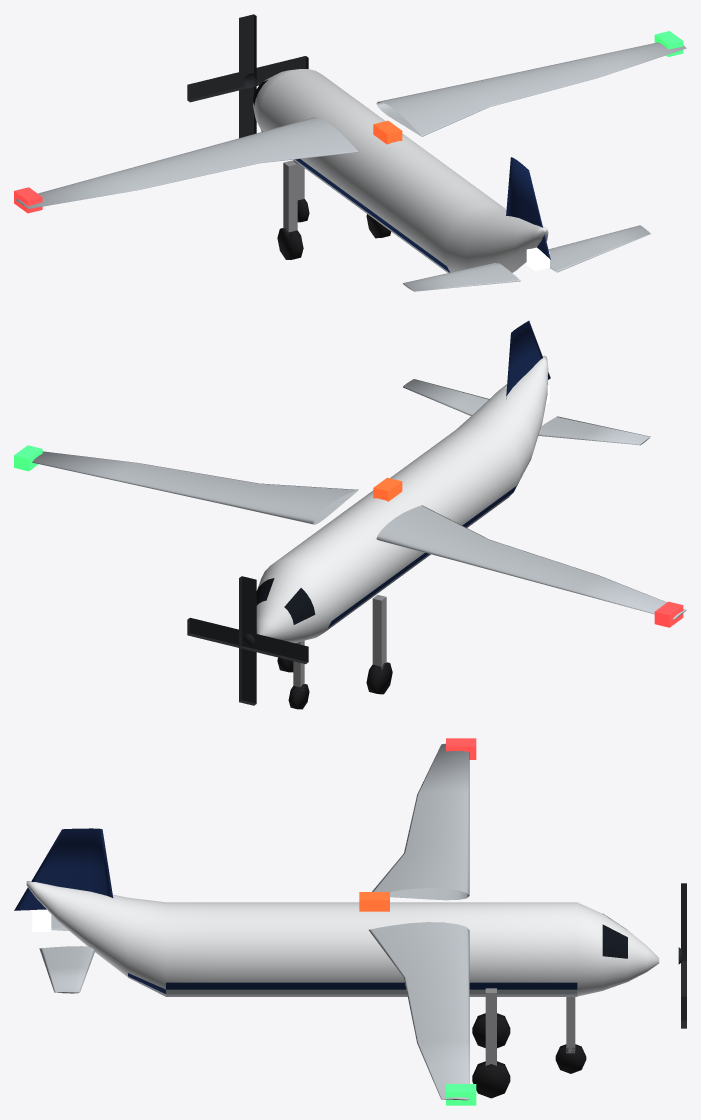
3 views of the same model, one above another, from view 1: azimuth 30°, elevation 25°; view 2: azimuth 150°, elevation 25°; view 3: azimuth 270°, elevation 25° (orthographic). The views are drawn at different scales.
Visible parts, largest first — view 1: c172_lod0_white, c172_lod0_wing, c172_lod0_dark, c172_lod0_blue, c172_lod0_gear_metal, c172_lod0_gear_tyre, c172_lod0_beacon, c172_lod0_nav_red, c172_lod0_nav_white, c172_lod0_nav_green; view 2: c172_lod0_white, c172_lod0_wing, c172_lod0_dark, c172_lod0_blue, c172_lod0_gear_metal, c172_lod0_gear_tyre, c172_lod0_glass; view 3: c172_lod0_white, c172_lod0_wing, c172_lod0_blue, c172_lod0_belly, c172_lod0_gear_tyre, c172_lod0_gear_metal, c172_lod0_dark, c172_lod0_glass, c172_lod0_nav_green, c172_lod0_beacon.
Part boxes in pixels (x1,y1,x2,y2): c172_lod0_white: [253, 69, 548, 272]; c172_lod0_wing: [16, 42, 686, 291]; c172_lod0_dark: [187, 14, 308, 138]; c172_lod0_blue: [261, 130, 550, 272]; c172_lod0_gear_metal: [283, 160, 304, 235]; c172_lod0_gear_tyre: [277, 199, 390, 259]; c172_lod0_beacon: [373, 120, 402, 144]; c172_lod0_nav_red: [14, 187, 42, 213]; c172_lod0_nav_white: [526, 247, 549, 271]; c172_lod0_nav_green: [654, 31, 683, 56]; c172_lod0_white: [256, 355, 548, 642]; c172_lod0_wing: [32, 379, 686, 619]; c172_lod0_dark: [187, 576, 308, 705]; c172_lod0_blue: [328, 320, 550, 627]; c172_lod0_gear_metal: [293, 595, 386, 689]; c172_lod0_gear_tyre: [277, 657, 392, 709]; c172_lod0_glass: [256, 578, 315, 624]; c172_lod0_white: [26, 881, 659, 996]; c172_lod0_wing: [39, 743, 469, 1100]; c172_lod0_blue: [14, 828, 577, 993]; c172_lod0_belly: [128, 976, 577, 996]; c172_lod0_gear_tyre: [472, 1013, 586, 1098]; c172_lod0_gear_metal: [485, 988, 575, 1065]; c172_lod0_dark: [678, 883, 686, 1028]; c172_lod0_glass: [602, 914, 627, 958]; c172_lod0_nav_green: [446, 1084, 476, 1105]; c172_lod0_beacon: [359, 892, 389, 911].
Size of the model in its own units: 11 by 3.51 by 8.81.
